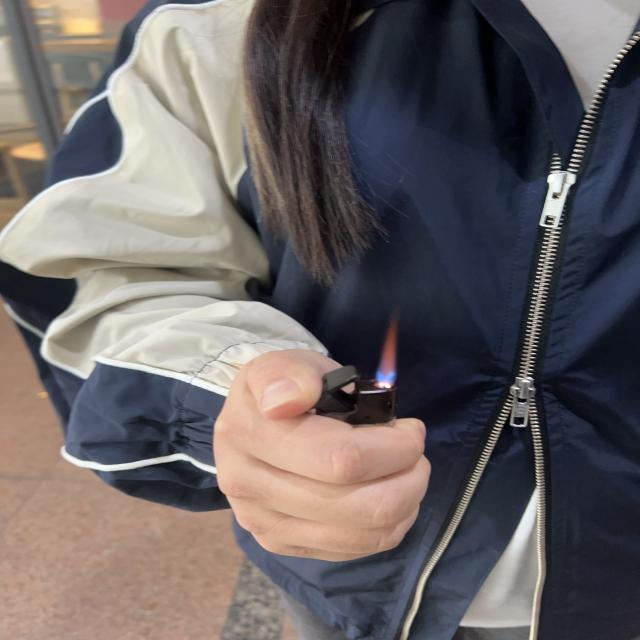fire: (376, 313, 400, 392)
